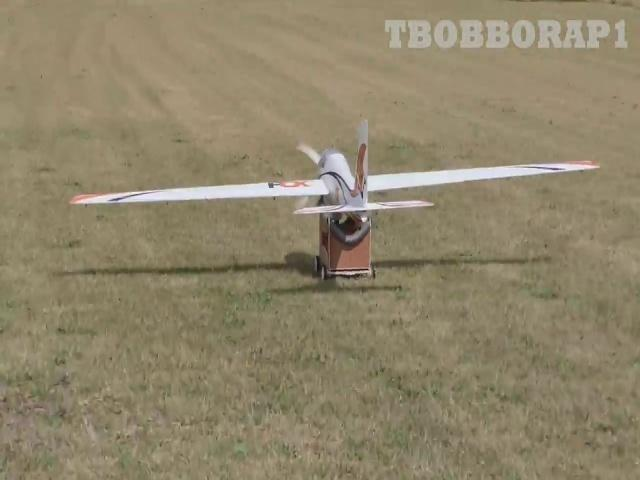Airplane: (70, 120, 601, 223)
